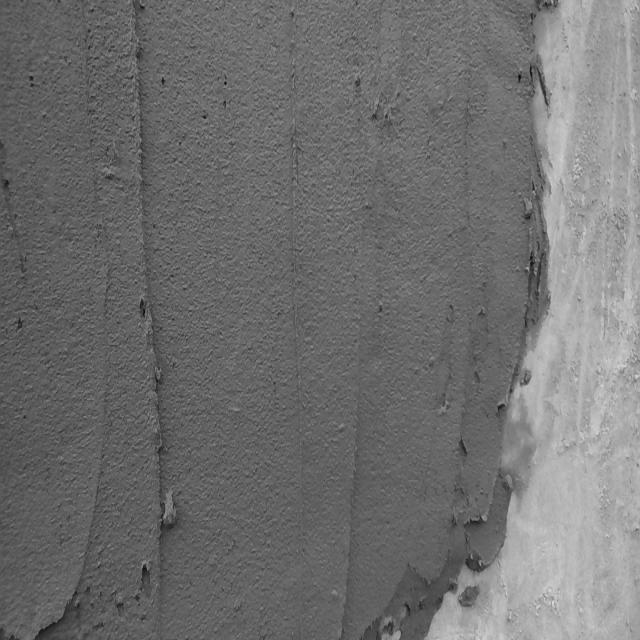trowels marks: (126, 0, 174, 640), (287, 34, 305, 488), (339, 429, 364, 640)
